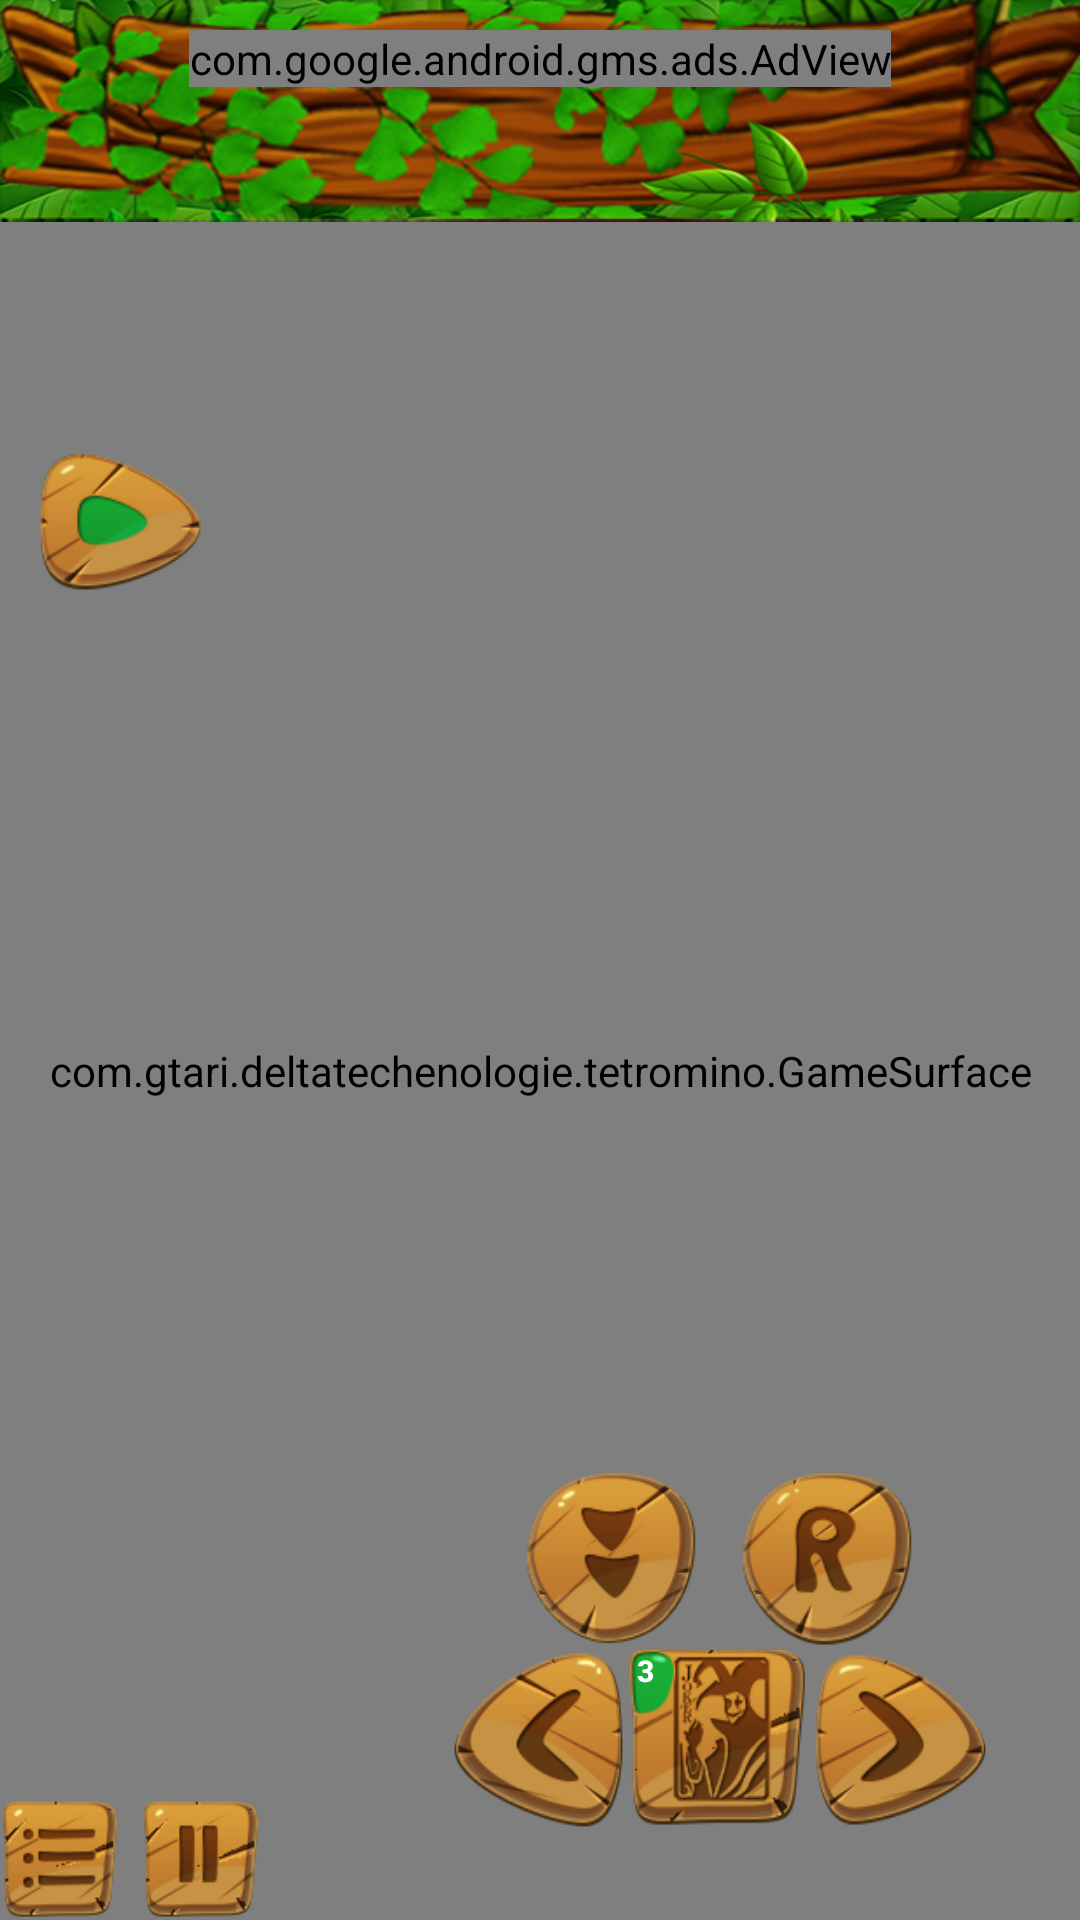

Named icons in this screenshot (1080 × 1920) and their bounding boxes, (x1, y1, x2, y2):
wood bt menu: (3, 1801, 117, 1917)
wood bt pause: (144, 1801, 258, 1917)
wood bt play: (40, 454, 201, 590)
wood bt rotate: (743, 1473, 912, 1645)
wood bt speed up: (527, 1473, 696, 1643)
